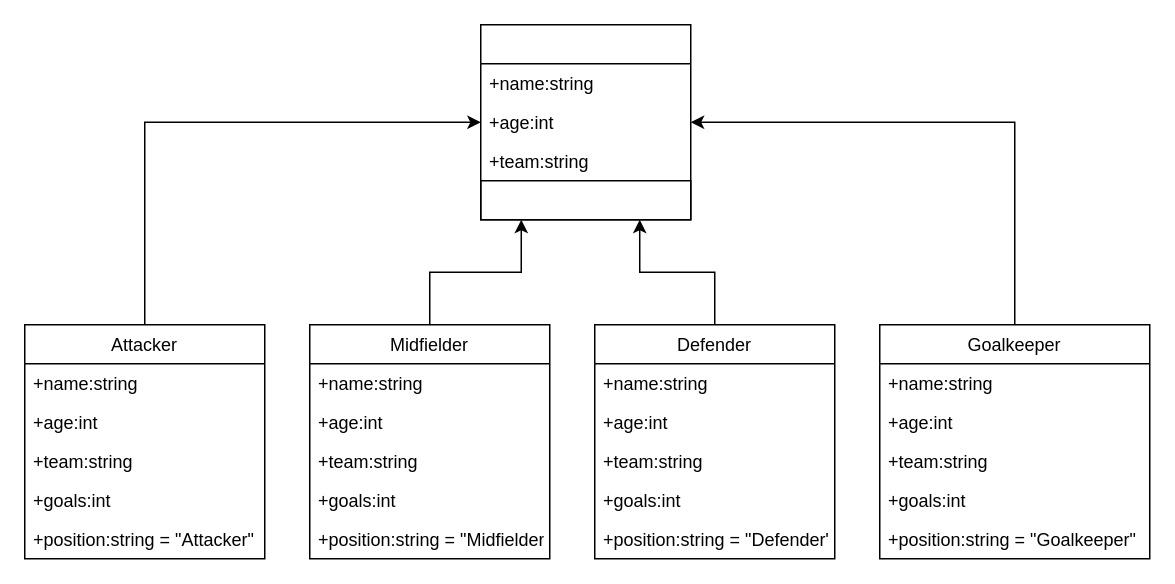
Some shapes in this 1175 by 584 pixel diagram are drawn without their labels. The shapes that lost their labels are listed below. From the top down, each one's box as (x1, y1, x2, y2) in pixels, then its label:
(479, 23, 691, 220): Player
(479, 179, 691, 220): +get_all_info()
